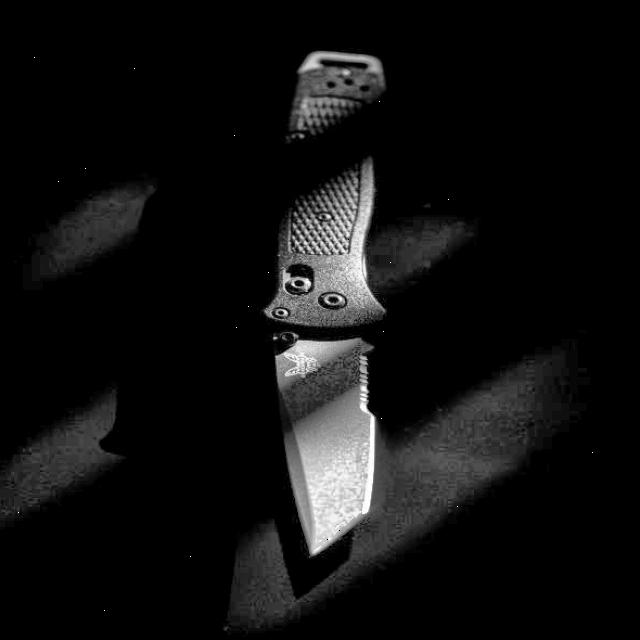knife: (262, 45, 390, 564)
